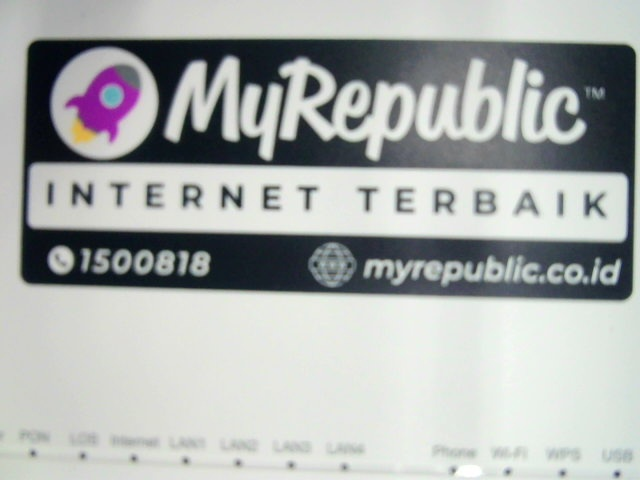BD_MyRepublic: (17, 36, 635, 302)
